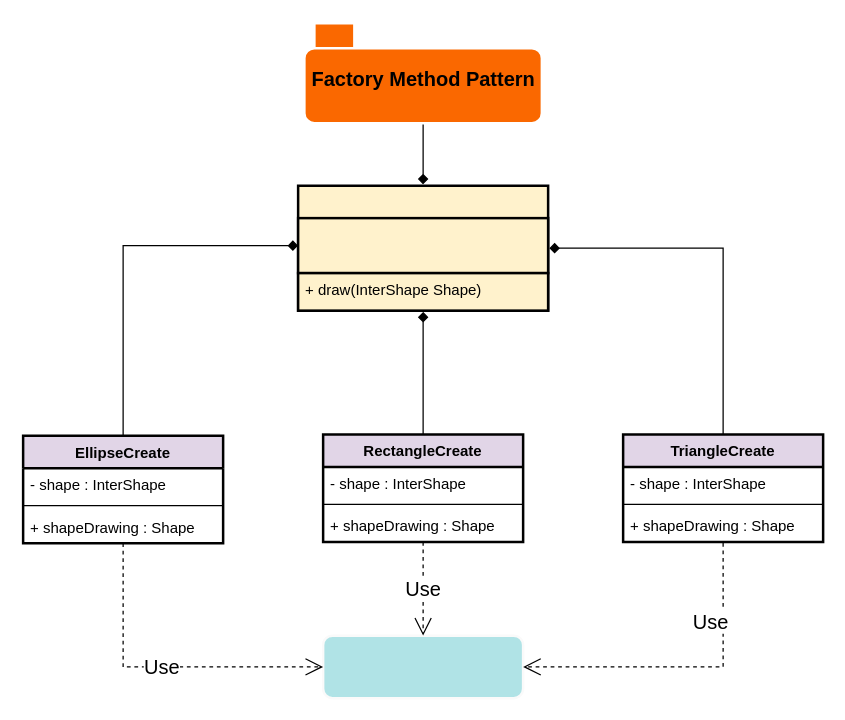
Some shapes in this 845 by 720 pixel diagram are drawn without their labels. The box of each missing label's shape, as (x1, y1, x2, y2) in pixels:
ShapeDrawer: (296, 184, 549, 311)
~ shapeFactory : InterShapeCreate ~ drawShape : Shape: (296, 216, 549, 274)
«interface» InterShapeCreate: (321, 634, 524, 699)
